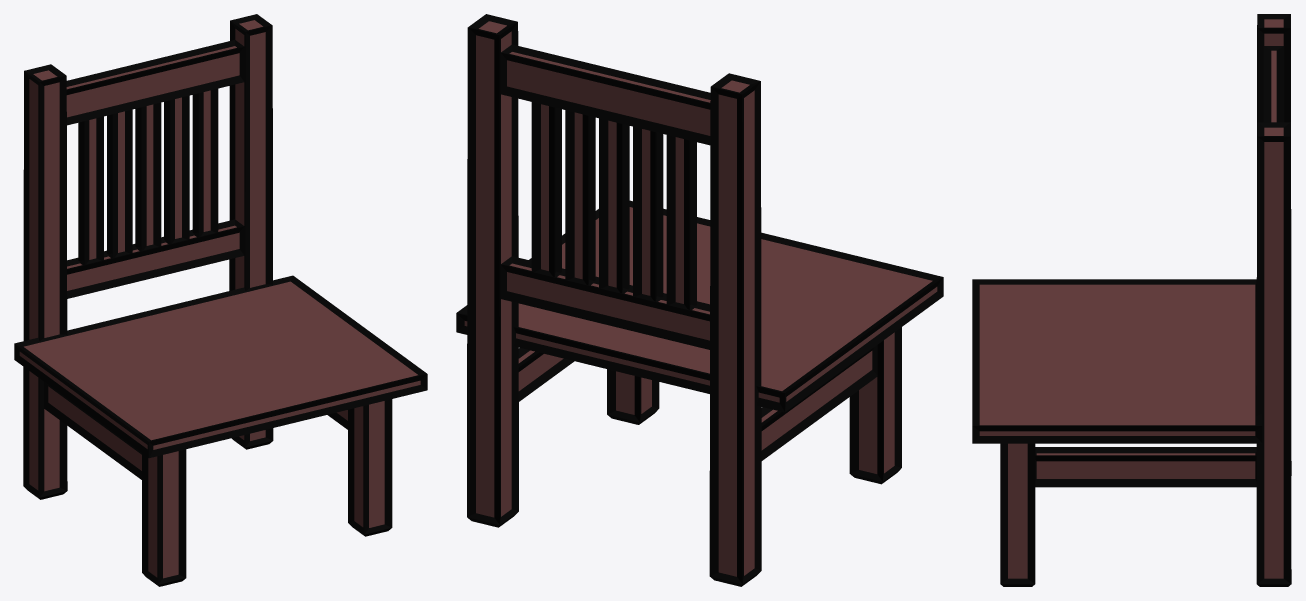
The model's file is Dark_Brown_1.glb.
The picture shows the model from 3 angles, left to right: view 1: azimuth 30°, elevation 25°; view 2: azimuth 150°, elevation 25°; view 3: azimuth 270°, elevation 25°; orthographic projection. The views are drawn at different scales.
Parts seen in each view (by area): view 1: Chair; view 2: Chair; view 3: Chair.
Boxes of the visible parts, x1,y1,x2,y2 form: Chair: (14,14,427,586); Chair: (456,14,943,586); Chair: (972,14,1291,586).
Size of the model in its own units: 0.7615 by 1.09 by 0.7003.
